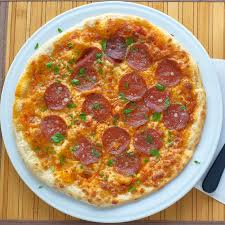pizza: (21, 28, 201, 202)
